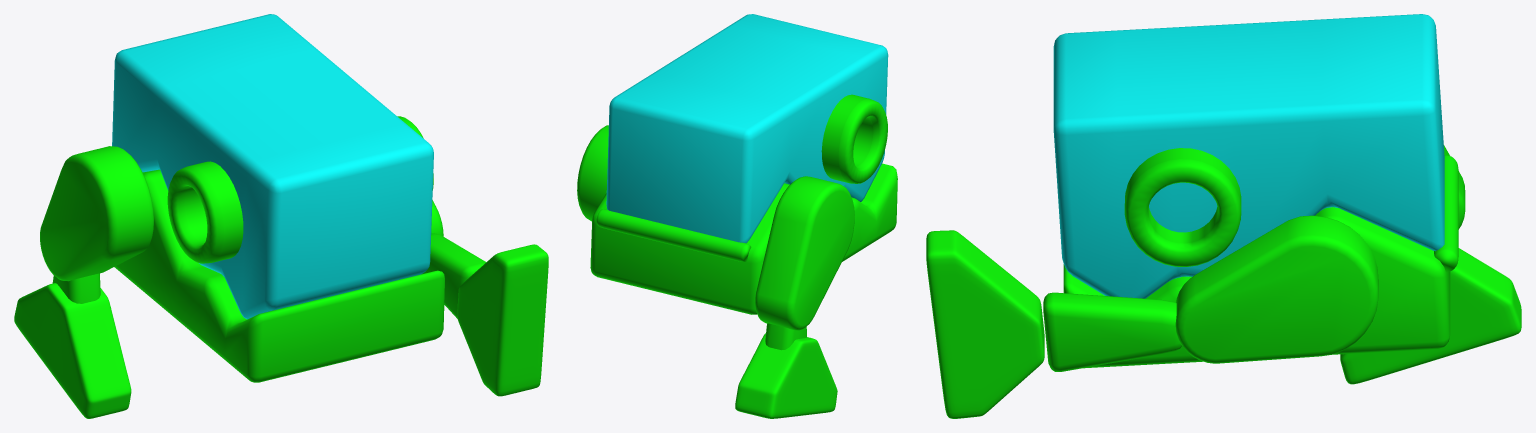
The picture shows the model from 3 angles, left to right: view 1: azimuth 30°, elevation 25°; view 2: azimuth 150°, elevation 25°; view 3: azimuth 270°, elevation 25°; orthographic projection. The views are drawn at different scales.
Visible parts, largest first — view 1: Top_Jaw, Lower_Jaw, Thighs_Left, Feet_Right, Feet_Left, Eyes, Shin_Right, Shin_Left; view 2: Top_Jaw, Lower_Jaw, Thighs_Left, Feet_Left, Eyes, Hinge, Thighs_Right, Shin_Left; view 3: Top_Jaw, Thighs_Right, Feet_Right, Lower_Jaw, Shin_Right, Eyes, Feet_Left, Hinge.
Part boxes in pixels (<box>): Top_Jaw: <box>112,14,433,319</box>; Lower_Jaw: <box>114,169,444,382</box>; Thighs_Left: <box>40,146,153,281</box>; Feet_Right: <box>457,244,548,396</box>; Feet_Left: <box>14,283,131,418</box>; Eyes: <box>167,116,433,263</box>; Shin_Right: <box>422,233,486,318</box>; Shin_Left: <box>52,273,100,303</box>; Top_Jaw: <box>606,14,888,243</box>; Lower_Jaw: <box>590,163,897,314</box>; Thighs_Left: <box>755,176,854,330</box>; Feet_Left: <box>735,333,837,418</box>; Eyes: <box>821,94,887,183</box>; Hinge: <box>596,209,751,261</box>; Thighs_Right: <box>577,125,608,221</box>; Shin_Left: <box>765,323,806,350</box>; Top_Jaw: <box>1053,14,1444,298</box>; Thighs_Right: <box>1175,215,1378,363</box>; Feet_Right: <box>926,230,1044,418</box>; Lower_Jaw: <box>1063,207,1450,368</box>; Shin_Right: <box>1043,292,1181,371</box>; Eyes: <box>1124,148,1241,266</box>; Feet_Left: <box>1340,248,1521,384</box>; Hinge: <box>1434,155,1458,272</box>.
Bounding box in the file's own units: 2.03 × 2.22 × 3.1.
